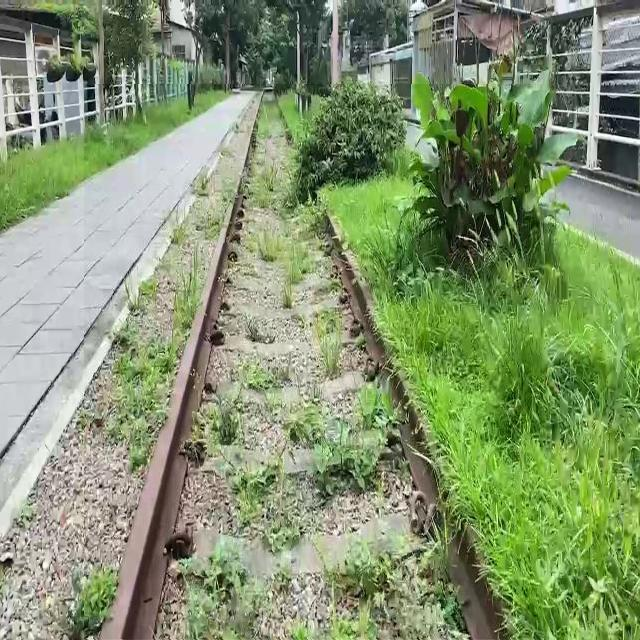rail: (85, 85, 543, 640)
